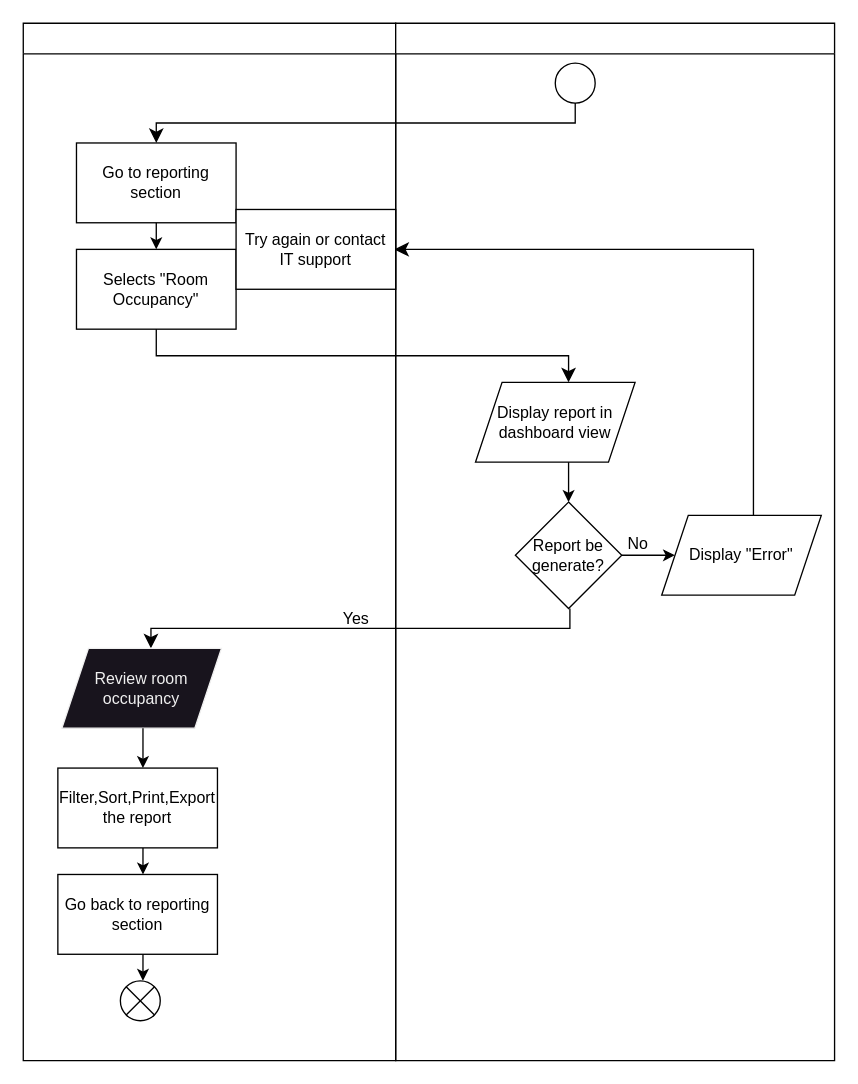
Some shapes in this 858 by 1084 pixel diagram are drawn without their labels. Each missing label, with the centre of its shape:
"Administrator" belongs at (x=209, y=541).
"System" belongs at (x=614, y=541).
